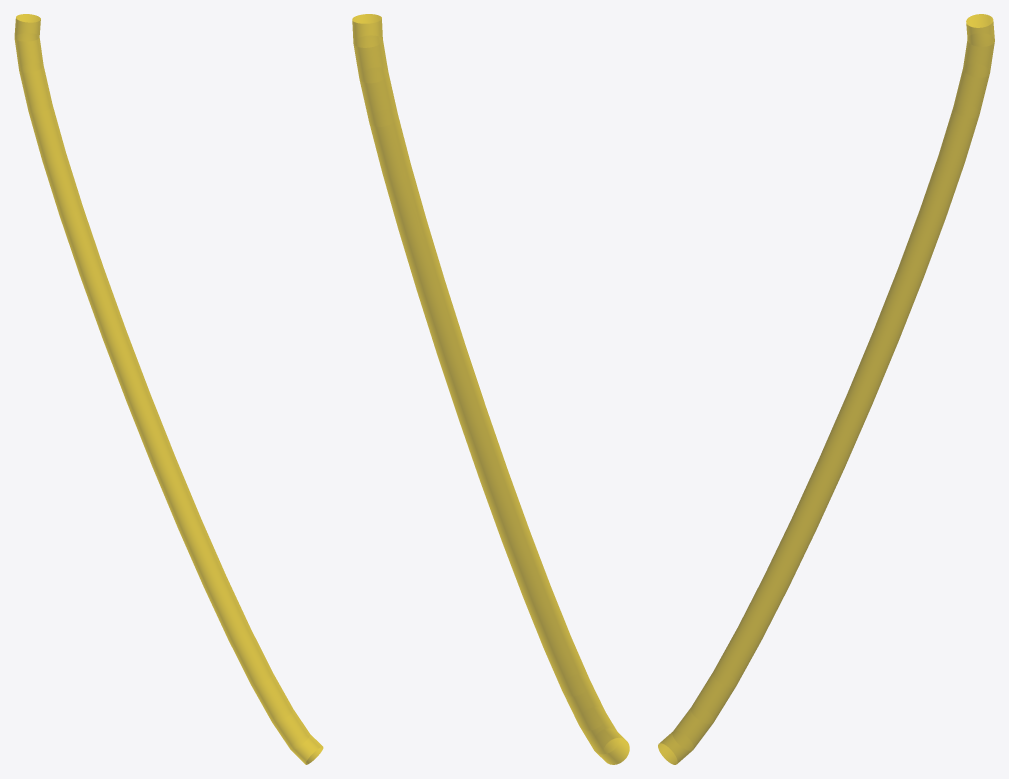
File: Event_17758602_track_177.fbx
3 views of the same model, side by side, from view 1: azimuth 90°, elevation 25°; view 2: azimuth 150°, elevation 25°; view 3: azimuth 270°, elevation 25° (orthographic). The views are drawn at different scales.
Parts seen in each view (by area): view 1: Model; view 2: Model; view 3: Model.
Boxes of the visible parts, x1,y1,x2,y2 form: Model: (14, 14, 323, 764); Model: (352, 14, 629, 764); Model: (658, 14, 994, 764).
Size of the model in its own units: 0.1621 by 1.25 by 0.4907.
